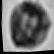correct: (6, 0, 54, 53)
